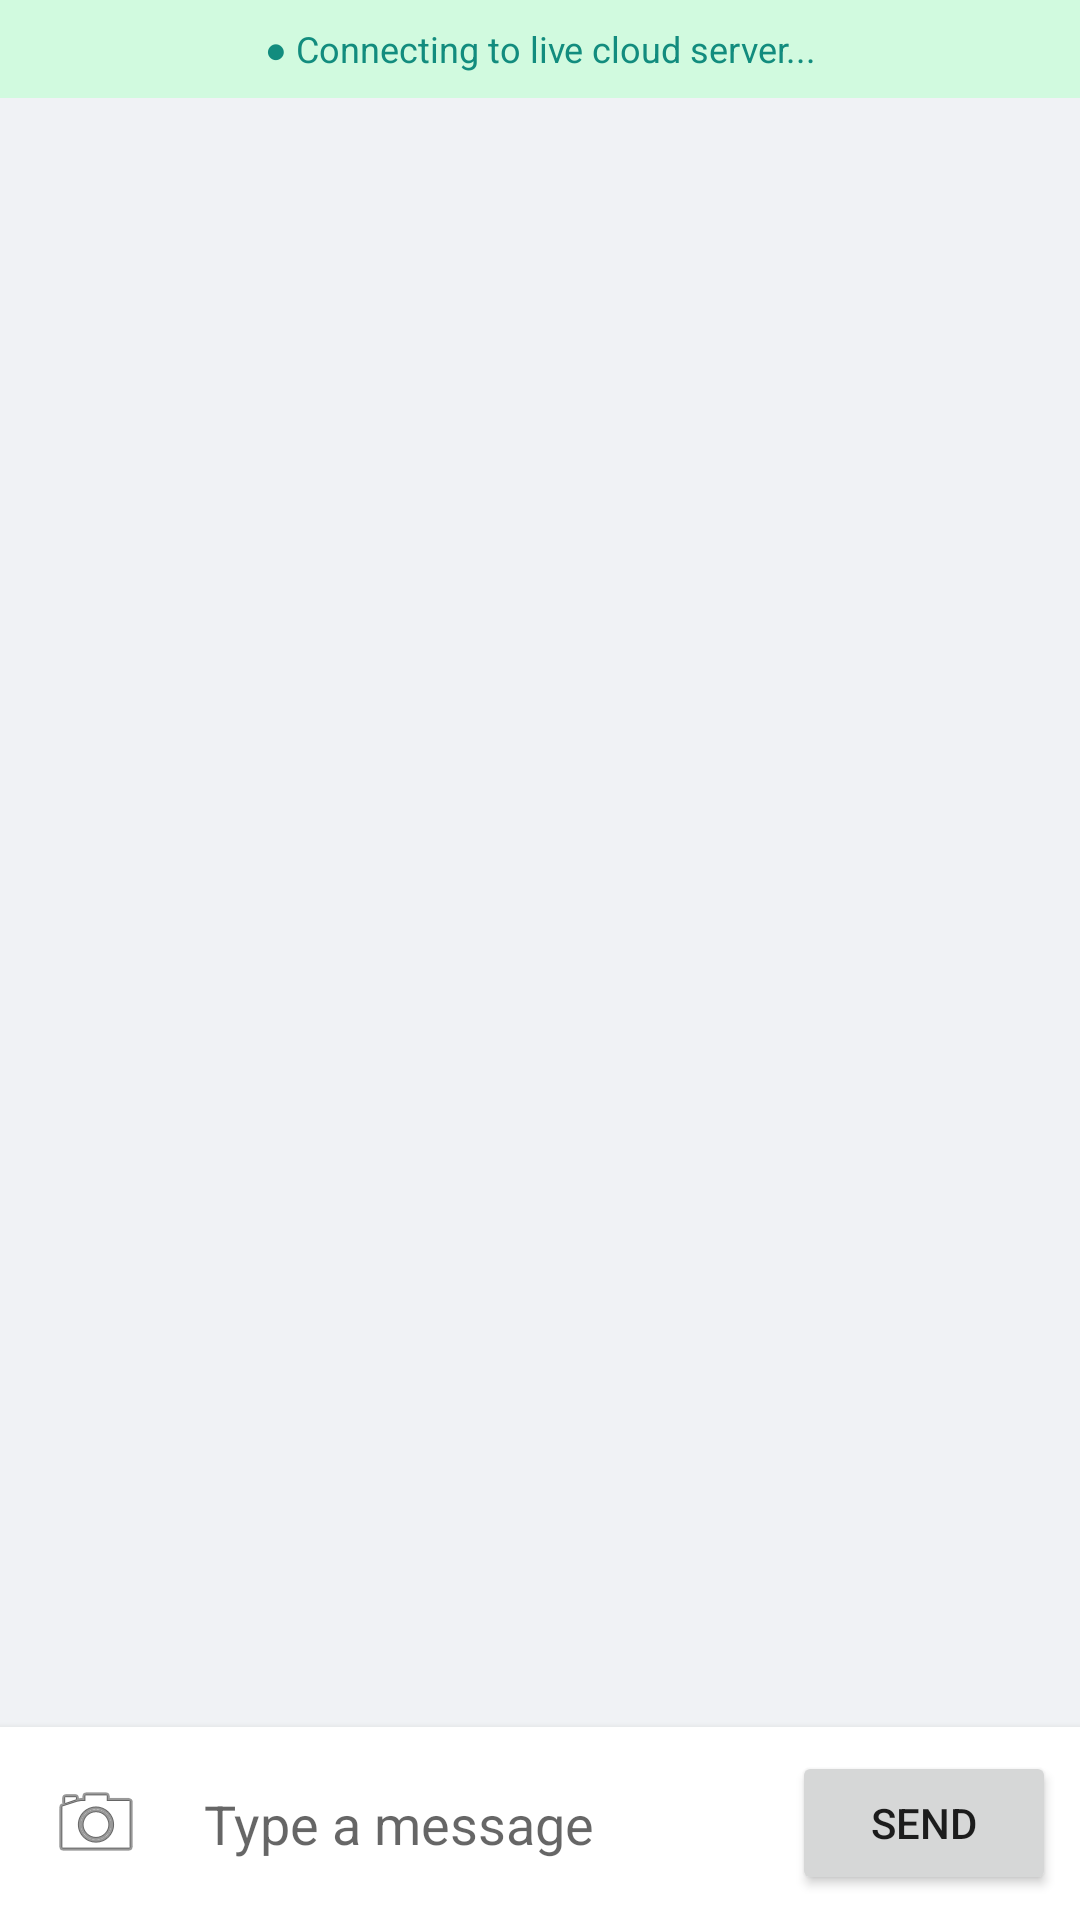

Named icons in this screenshot (1080×1920) and their bounding boxes, detection(x1, y1, x2, y2):
Camera: detection(59, 1792, 133, 1851)
